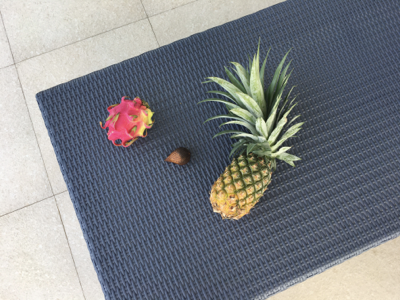dragon fruit: (100, 95, 156, 150)
pineapple: (199, 37, 303, 220)
snake fruit: (165, 148, 192, 167)
